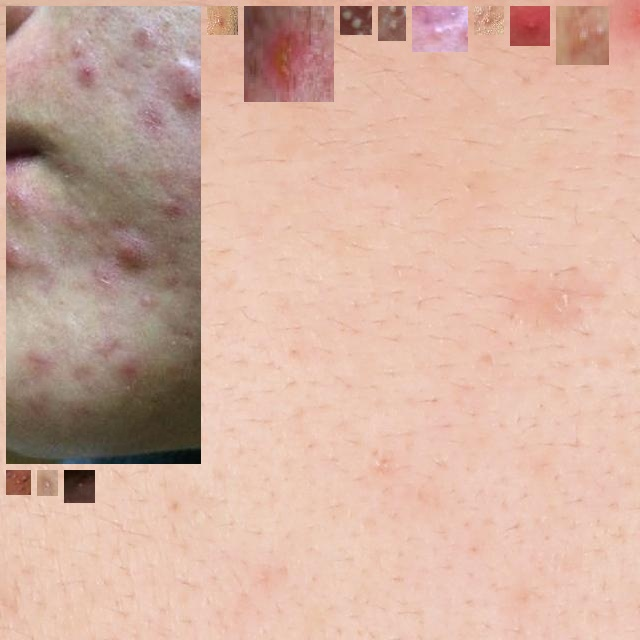pustule: (14, 14, 193, 456), (252, 14, 326, 94), (564, 14, 601, 57), (420, 14, 460, 44), (518, 14, 542, 38), (72, 478, 87, 495), (386, 14, 398, 33), (348, 14, 364, 27), (215, 14, 230, 27), (482, 14, 496, 27), (14, 478, 23, 487), (45, 478, 50, 488)
